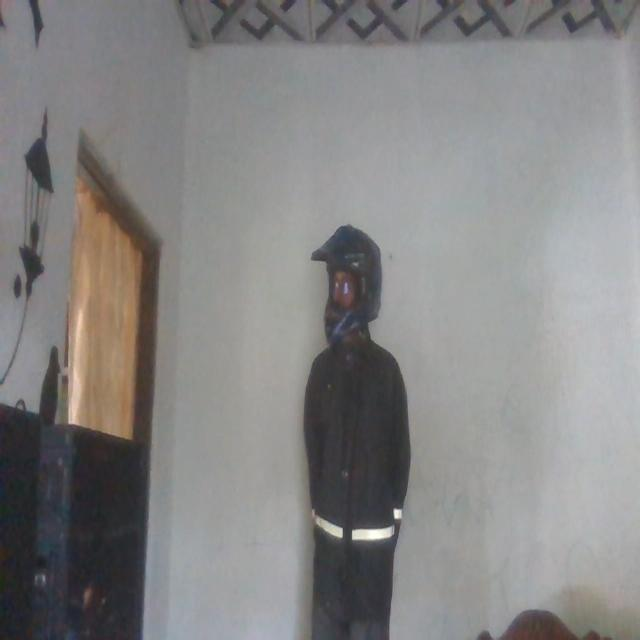Helmet_Wearer: (310, 226, 386, 336)
Jacket_Wearer: (303, 331, 409, 625)
Person: (296, 224, 412, 640)
